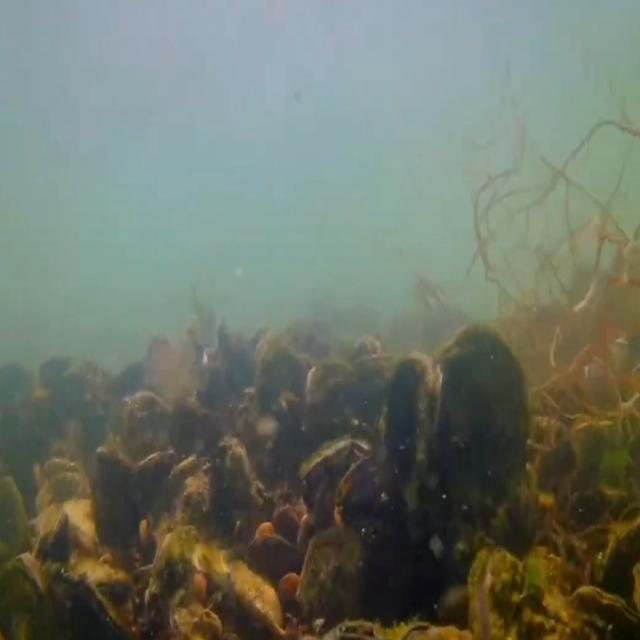Oyster-Closed: (144, 523, 204, 640), (39, 508, 69, 563)
Oyster-Indeterminate: (441, 320, 529, 512), (385, 350, 443, 510), (297, 525, 364, 640), (92, 445, 141, 552), (214, 436, 253, 534), (228, 561, 283, 630), (0, 476, 31, 577)
Oyster-Open: (298, 437, 382, 532), (163, 453, 214, 519), (41, 458, 89, 498)
